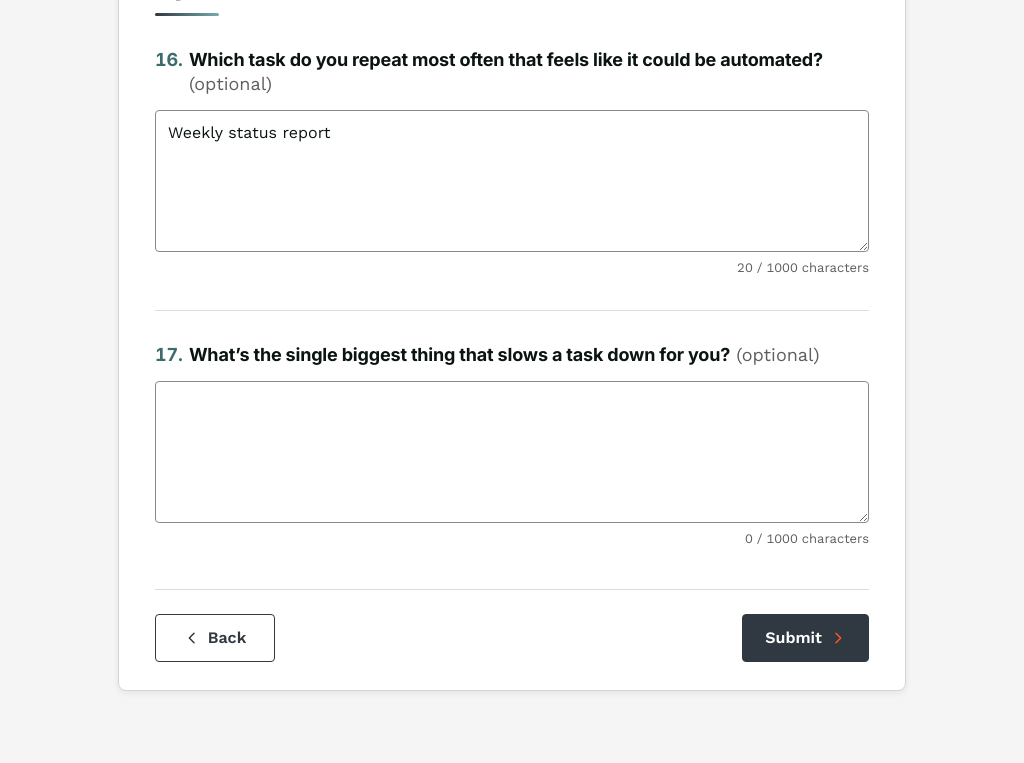
Test case: submission › POSTs JSON in the documented format, clears saved answers, and thanks the respondent
This screenshot has width=1024, height=763.
(page scrolled)
Click the button "Submit" at (806, 638), box [742, 614, 869, 662]
(page scrolled)
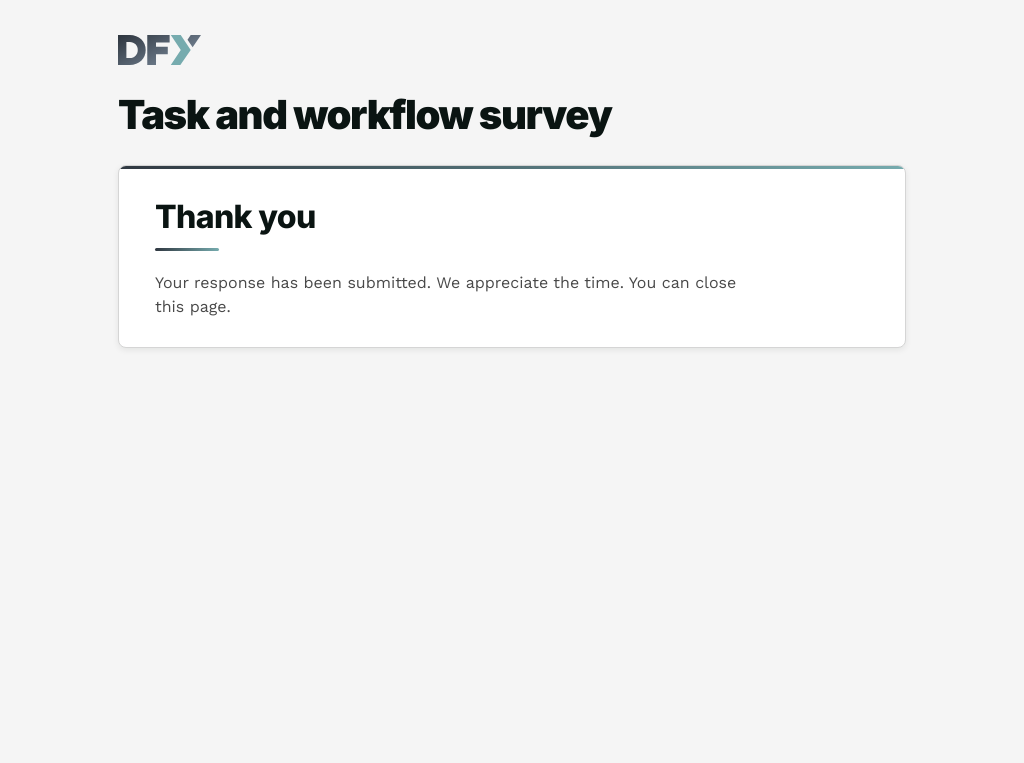
expect the heading "Thank you" is shown: met, box [155, 197, 316, 236]
